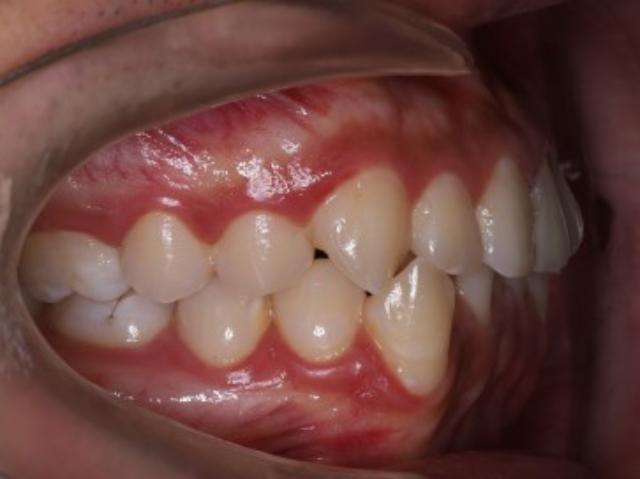canine class II 1/4: (269, 146, 461, 406)
molar class III 1/4: (20, 231, 176, 349)
